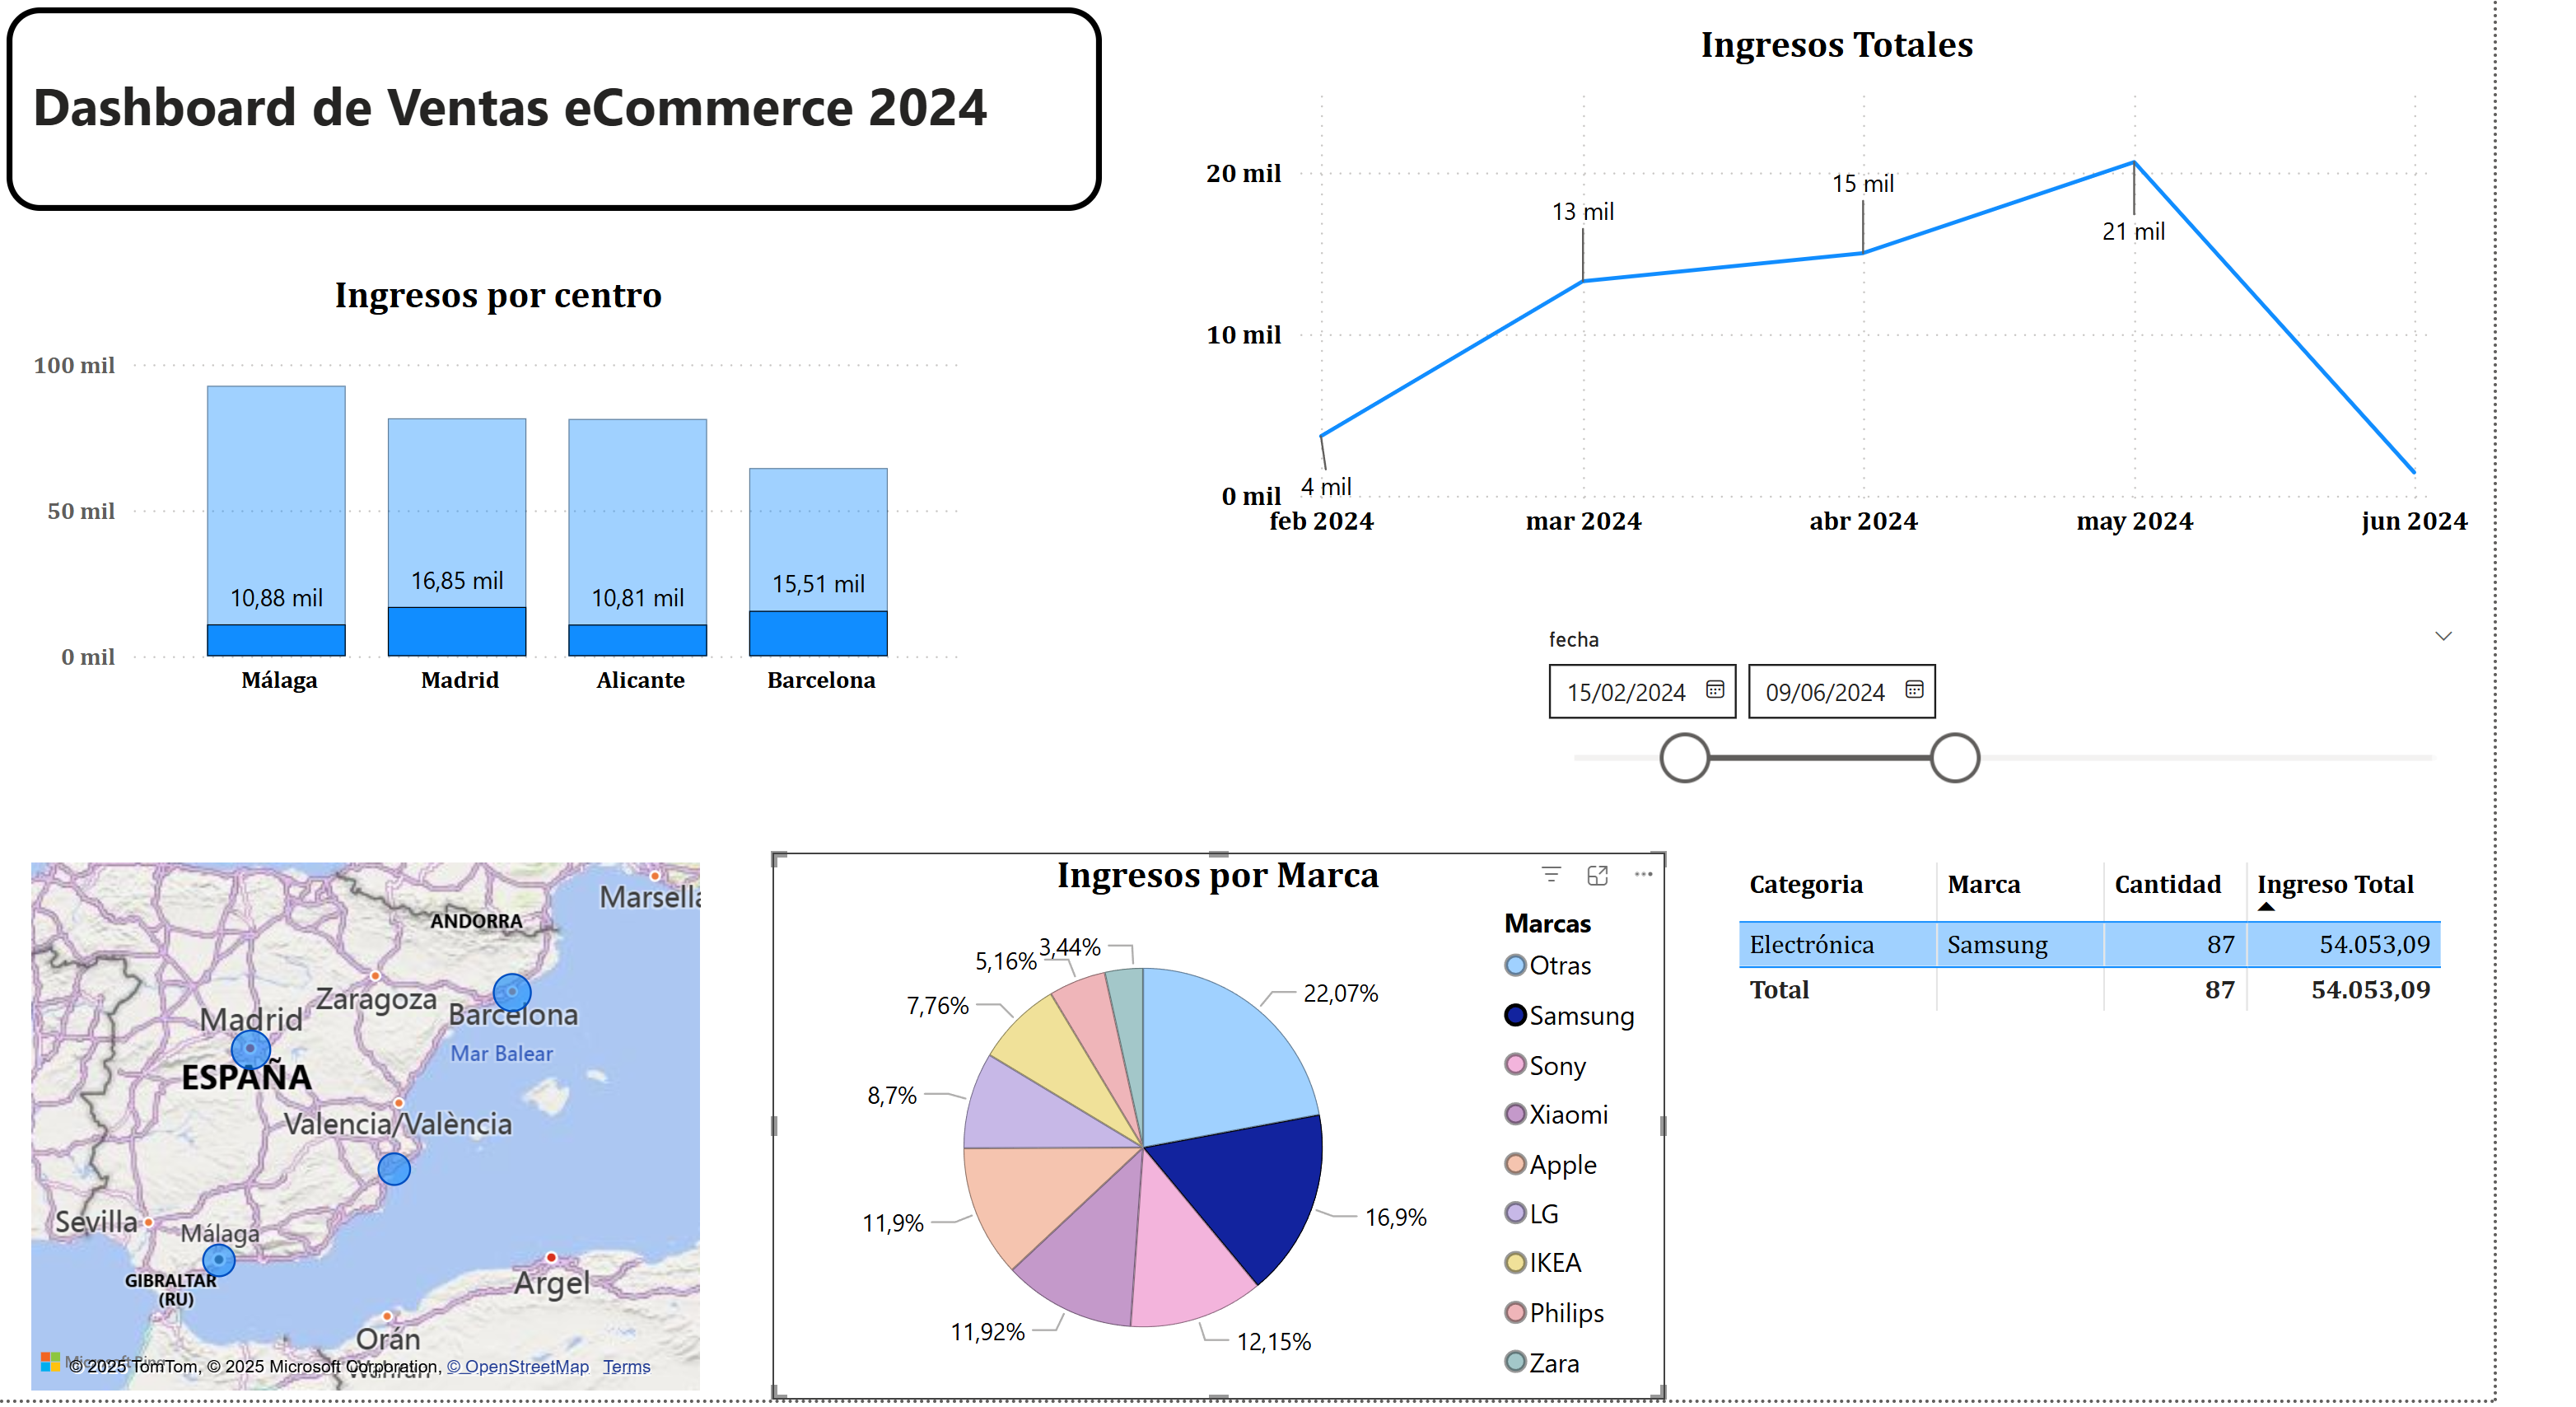

The page's visual inventory and layout, read from the dashboard file:
{"tool":"powerbi","page":{"name":"DashBoard","canvas":[1280,720],"ordinal":0},"visuals":[{"type":"textbox","box":[8,8,560,104],"z":0},{"type":"lineChart","title":"Ingresos Totales","fields":{"Category":["Sheet1.fecha.Variación.Jerarquía de fechas.Año","Sheet1.fecha.Variación.Jerarquía de fechas.Trimestre","Sheet1.fecha.Variación.Jerarquía de fechas.Mes","Sheet1.fecha.Variación.Jerarquía de fechas.Día"],"Y":["Sum(Sheet1.ingreso_total)"]},"box":[616,16,656,272],"z":1000},{"type":"pieChart","title":"Ingresos por Marca","fields":{"Category":["Sheet1.Marca Agrupada"],"Y":["Sum(Sheet1.ingreso_total)"]},"box":[400,440,456,280],"z":2000},{"type":"columnChart","title":"Ingresos por centro","fields":{"Category":["Tabla.ciudad"],"Y":["Sum(Sheet1.ingreso_total)"]},"box":[16,144,488,224],"z":3000},{"type":"map","fields":{"Category":["Tabla.ciudad"],"Size":["Sum(Sheet1.ingreso_total)"]},"box":[16,440,352,280],"z":4000},{"type":"tableEx","fields":{"Values":["Sheet1.categoria","Sheet1.marca","Sum(Sheet1.cantidad)","Sum(Sheet1.ingreso_total)"]},"box":[888,440,392,272],"z":5000},{"type":"slicer","fields":{"Values":["Sheet1.fecha"]},"box":[784,320,488,96],"z":6000}]}

Visuals, with their boxes on the page's 1280x720 design canvas (x1, y1, x2, y2). These are canvas units, not pixel positions in the 2576x1407 screenshot, which may show the page scaled, cropped or inside an application window:
textbox: rect(8, 8, 568, 112)
"Ingresos Totales" lineChart: rect(616, 16, 1272, 288)
"Ingresos por Marca" pieChart: rect(400, 440, 856, 720)
"Ingresos por centro" columnChart: rect(16, 144, 504, 368)
map - Tabla.ciudad x Sum(Sheet1.ingreso_total): rect(16, 440, 368, 720)
tableEx - Sheet1.categoria x Sheet1.marca: rect(888, 440, 1280, 712)
slicer - Sheet1.fecha: rect(784, 320, 1272, 416)
